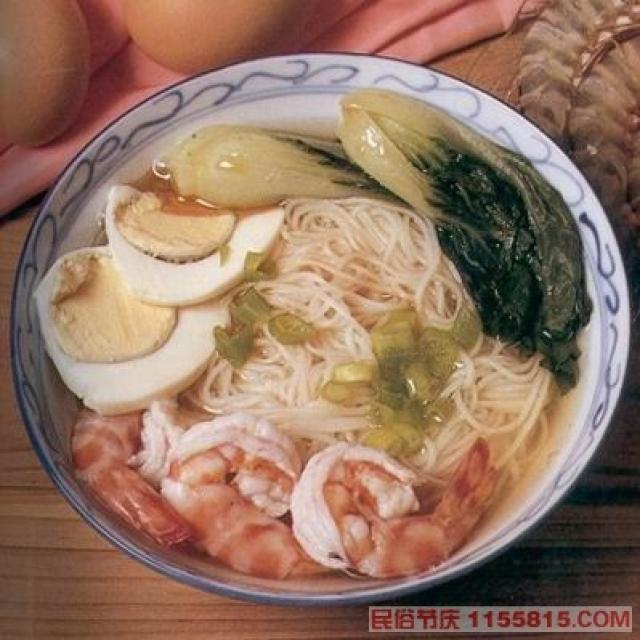面条主食: (19, 38, 629, 604)
